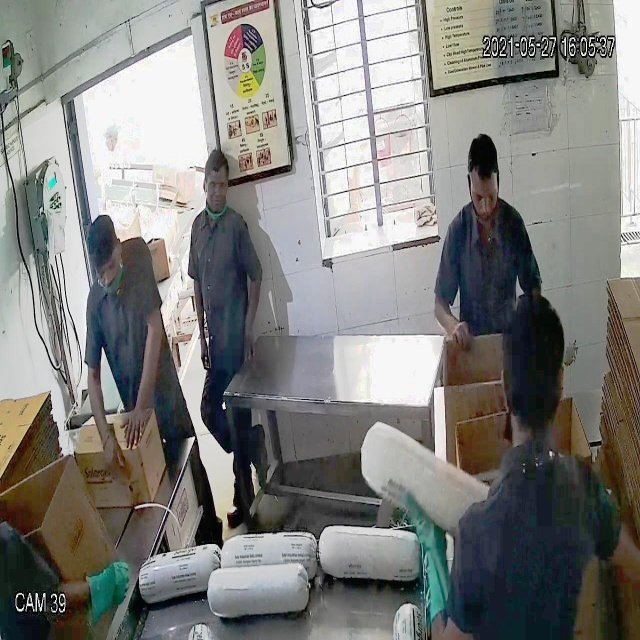Sin_gafas: (88, 252, 127, 284), (468, 180, 505, 213)
